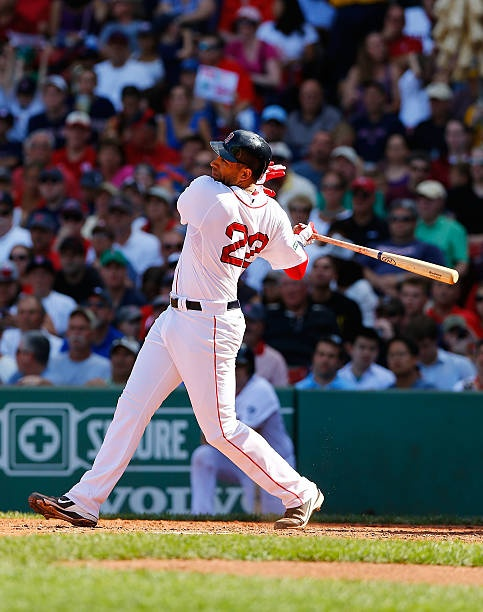bita: (318, 231, 456, 286)
